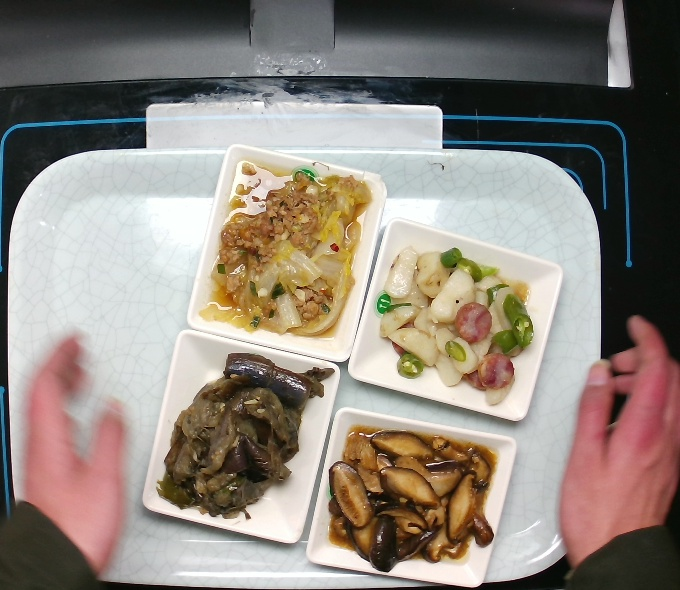wcq-MaTiGuo: (375, 240, 538, 409)
wcq-MoGu: (319, 420, 505, 571)
wcq-QieZi: (148, 350, 339, 524)
wcq-RouMoBaiCai: (197, 153, 373, 339)
